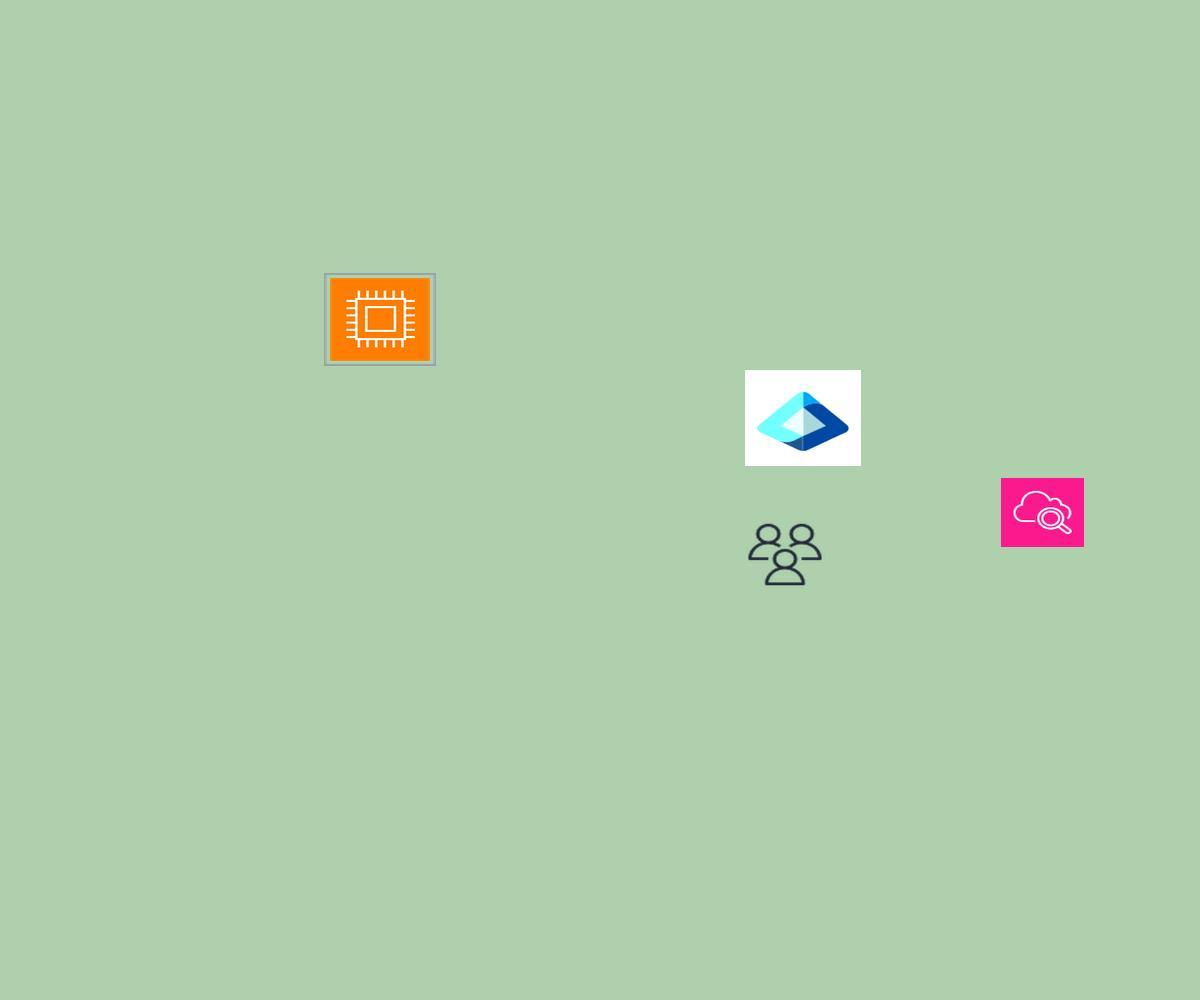AWS-Category_Compute: (324, 273, 436, 366)
AWS-CloudWatch: (1001, 478, 1084, 547)
AWS-Res_Users: (745, 521, 825, 588)
Azure_microsoft_entra: (745, 370, 861, 466)
